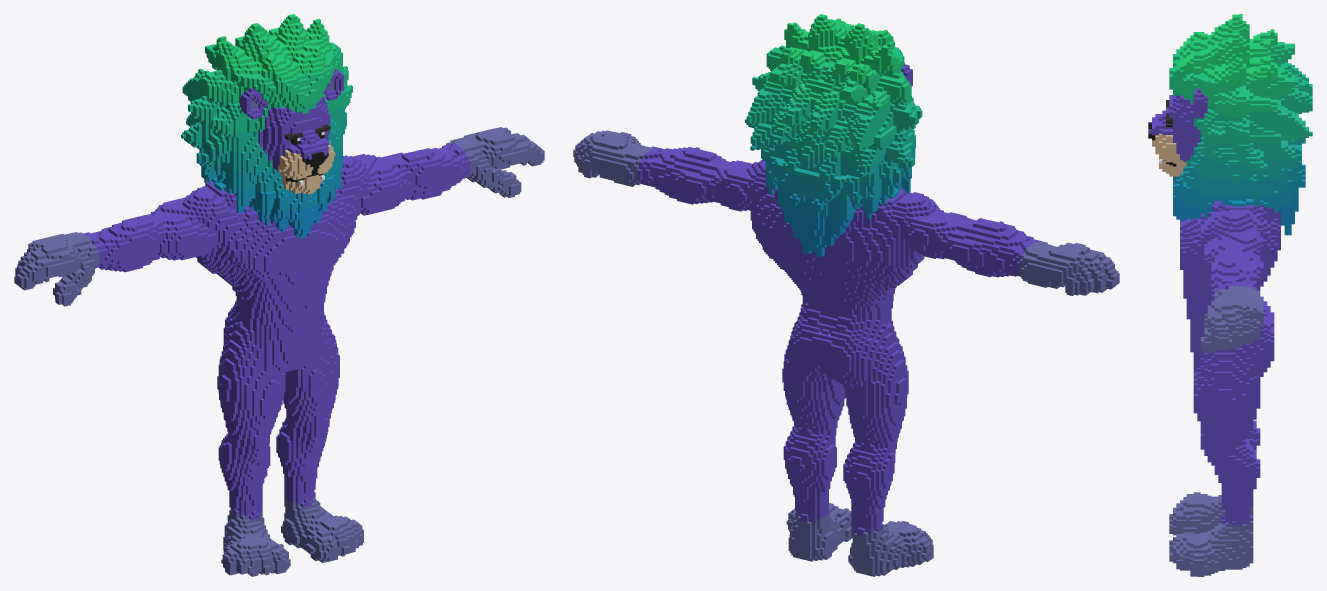
Rendered from 468-C5WigeIw.glb.
The picture shows the model from 3 angles, left to right: view 1: azimuth 30°, elevation 25°; view 2: azimuth 150°, elevation 25°; view 3: azimuth 270°, elevation 25°; orthographic projection. The views are drawn at different scales.
Parts seen in each view (by area): view 1: standard; view 2: standard; view 3: standard.
Boxes of the visible parts, <box> form: standard: <box>14,14,544,576</box>; standard: <box>573,14,1119,576</box>; standard: <box>1148,14,1312,576</box>.
Bounding box in the file's own units: 17.2 × 16.5 × 4.7.
Materials: 4 (4 with a texture image).
